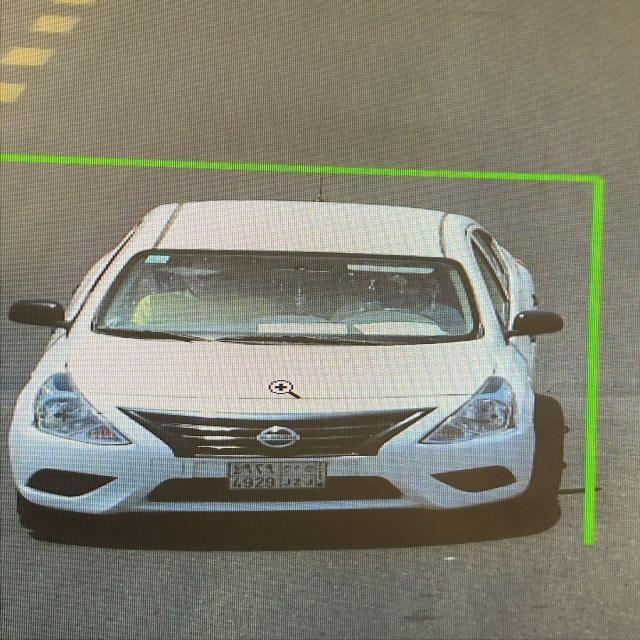person_without_seatbelt: (329, 271, 464, 342)
